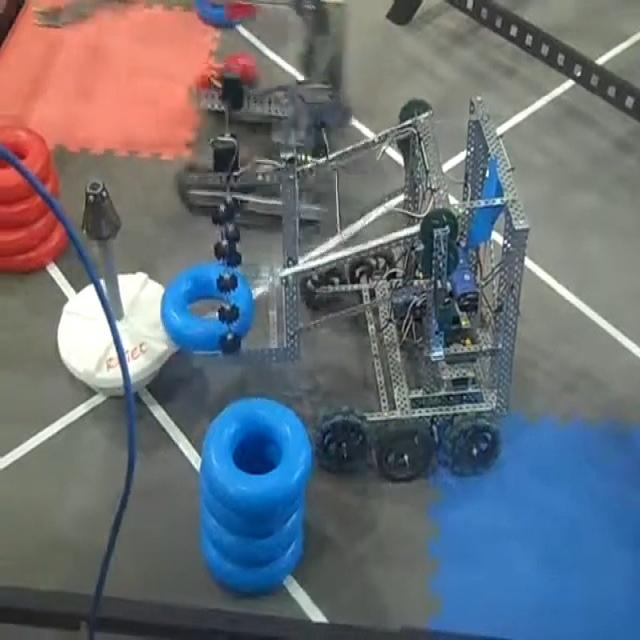Blue-Ring: (202, 396, 313, 523), (159, 263, 254, 356), (200, 493, 303, 569), (201, 521, 303, 595), (201, 477, 275, 540)
Red-Ring: (0, 228, 69, 272), (0, 128, 50, 184), (0, 211, 57, 249), (0, 160, 36, 204), (0, 196, 48, 228), (47, 169, 58, 197)
